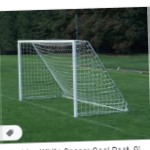goals: (15, 36, 129, 118)
